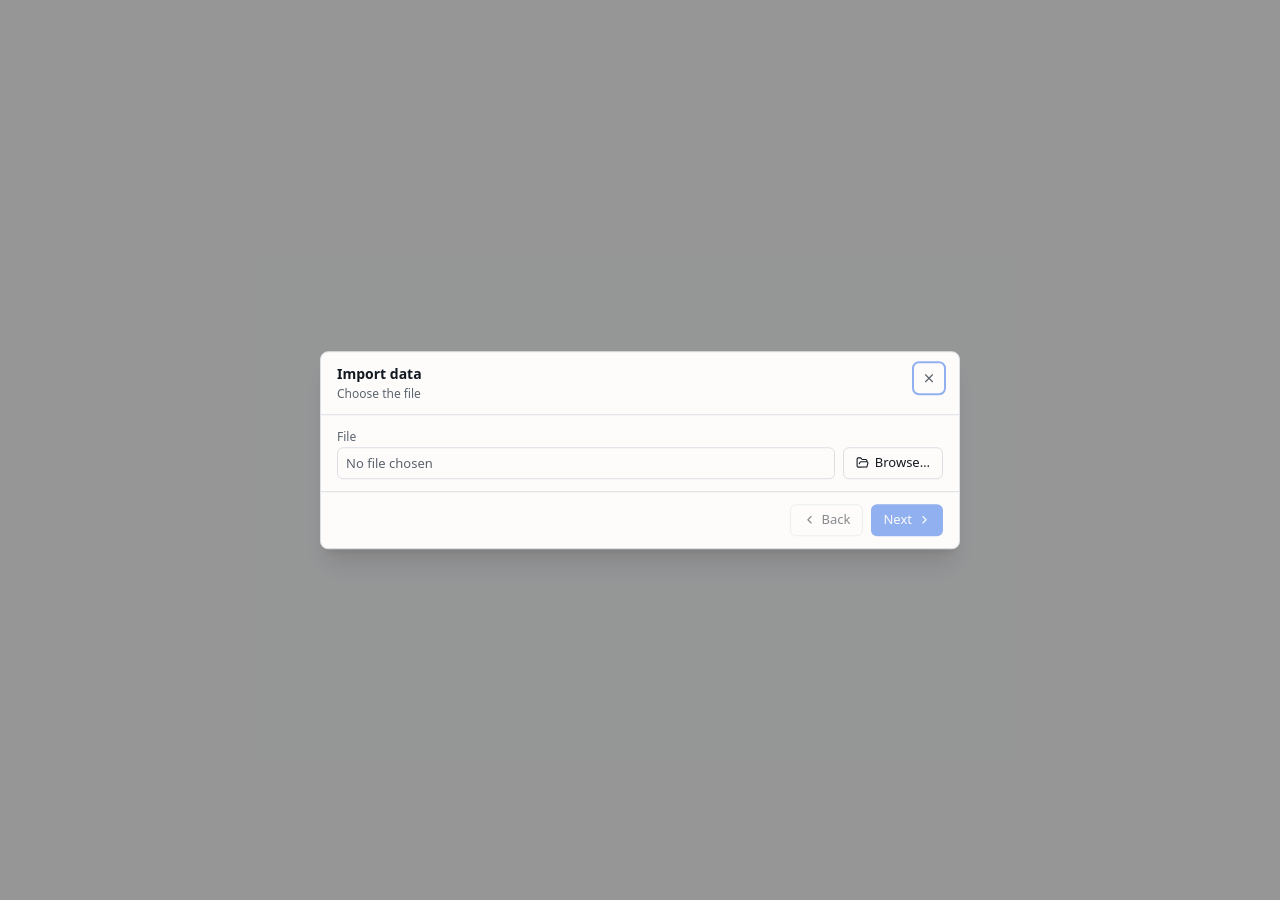
ImportWizard › creates a new table from the file with proposed types
Later steps or results of the test are not shown.
Click the button "Browse…". click: [893, 463]
box: [843,447,943,479]
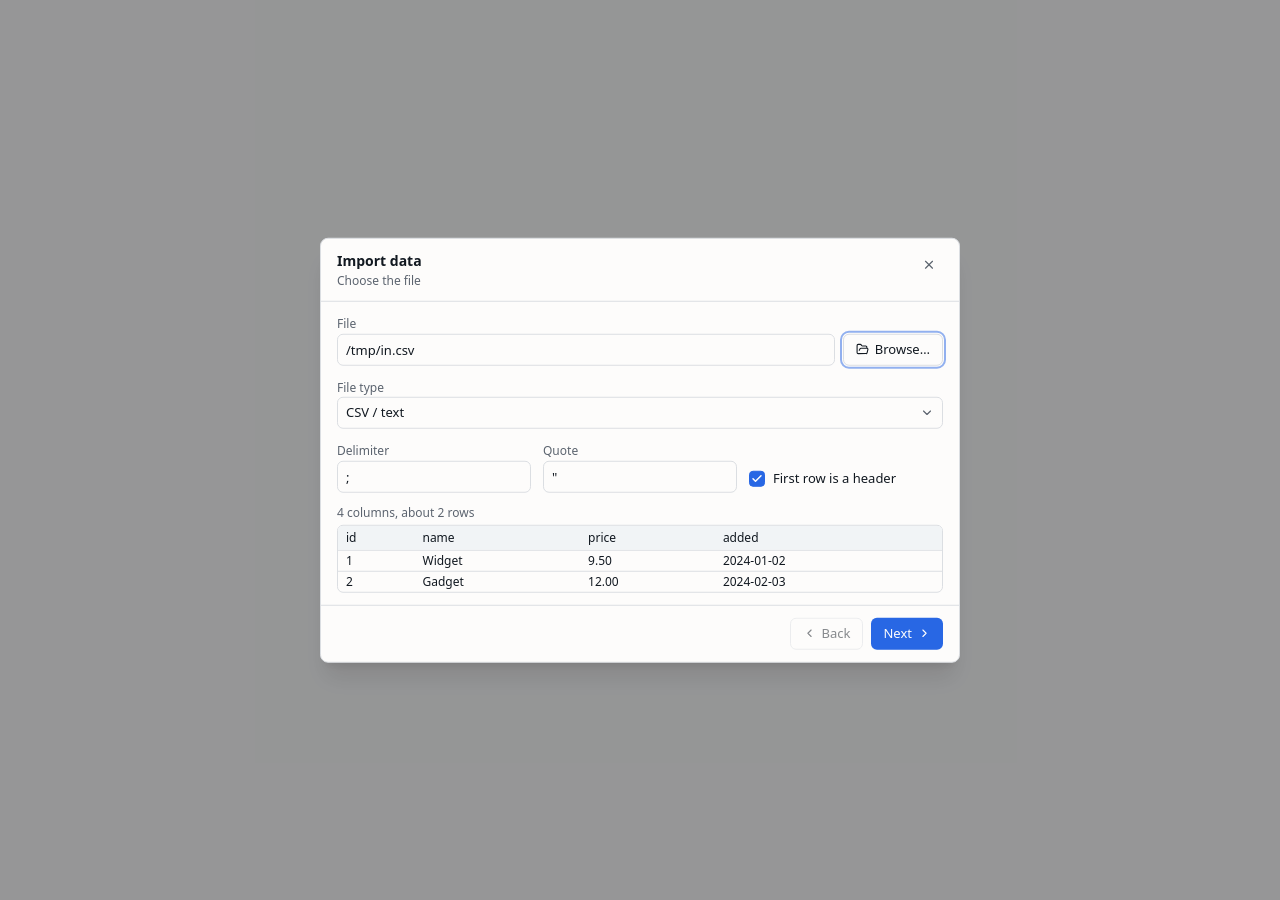
Now the field labelled "File" holds "/tmp/in.csv", box [337,333,835,365]
Now the table with test id "import-preview" is shown, box [338,525,942,591]
Click the button "Next". click: [907, 633]
box: [872,617,943,649]
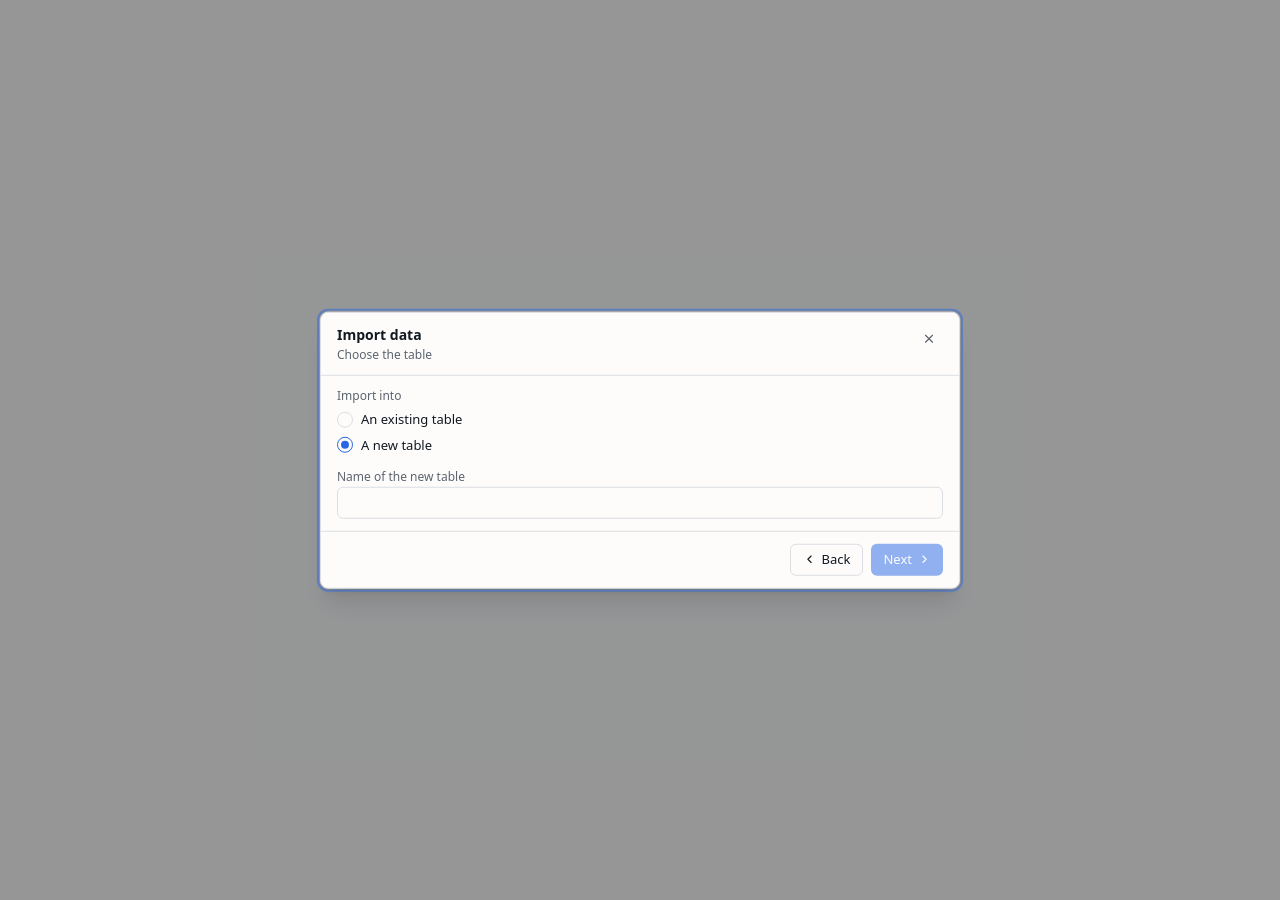
Type "prices" into the field labelled "Name of the new table". click: [640, 502]
box: [337,486,943,518]
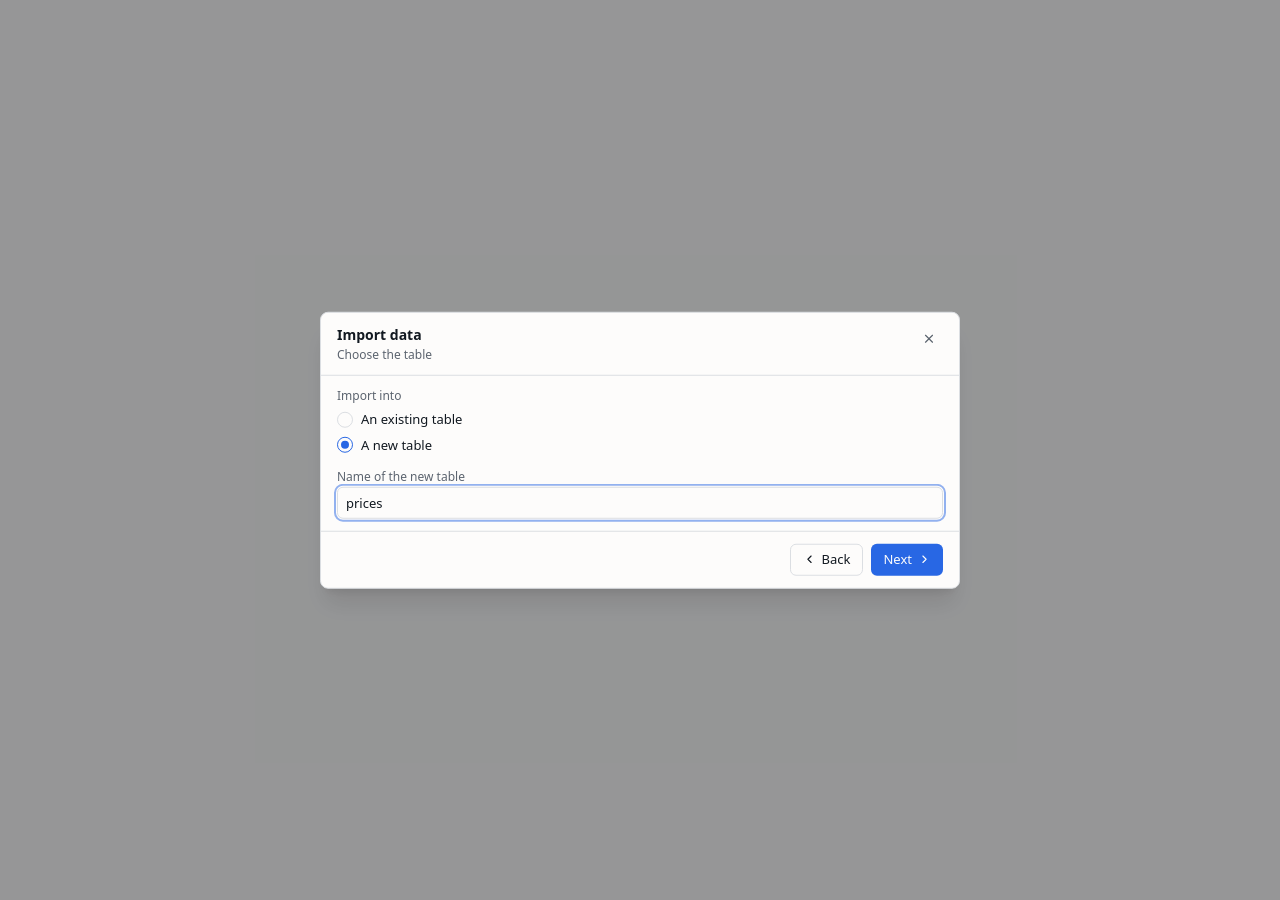
Click the button "Next". click: [907, 559]
box: [872,543,943,575]
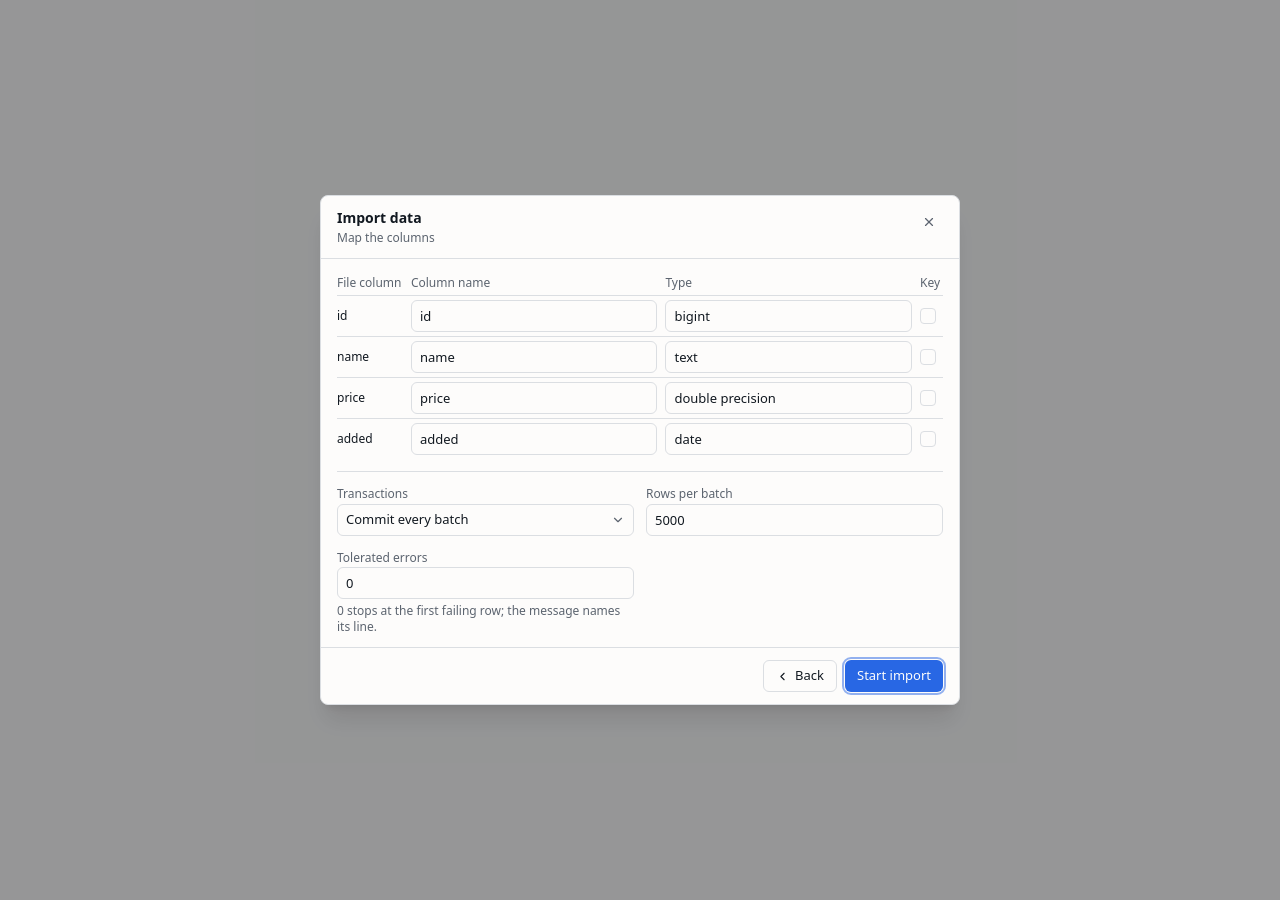
Now the field named "Column name 3" holds "price", box [411,382,657,414]
Now the field named "Type 3" holds "double precision", box [665,382,912,414]
Now the field named "Type 1" holds "bigint", box [665,300,912,332]
